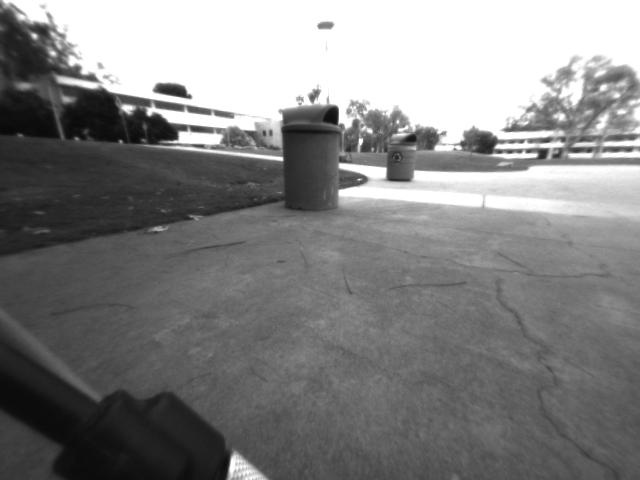trashcan: (277, 104, 343, 214)
